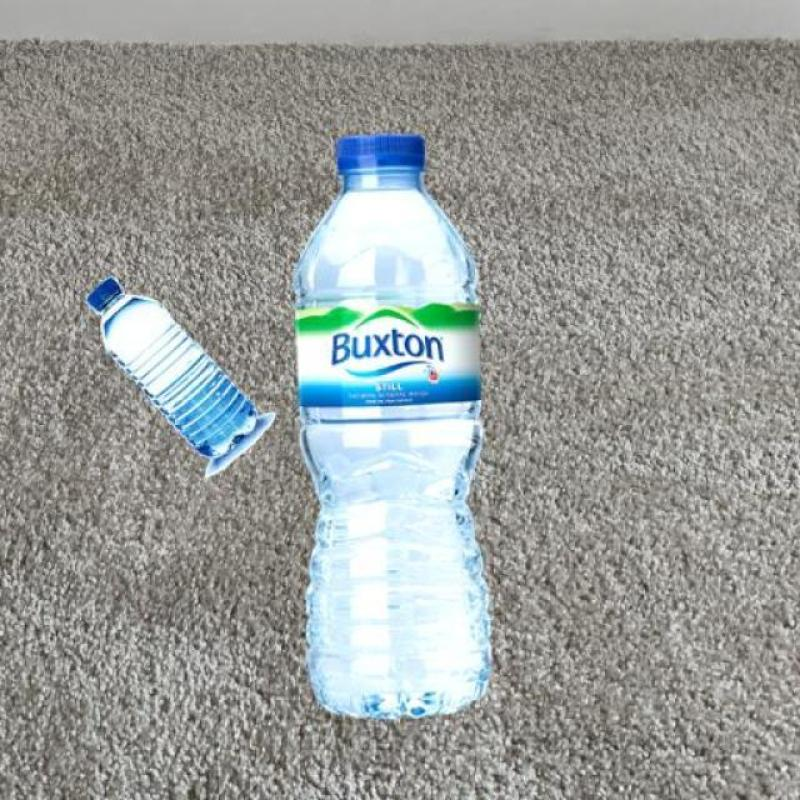botella: (290, 135, 498, 720), (87, 274, 262, 466)
